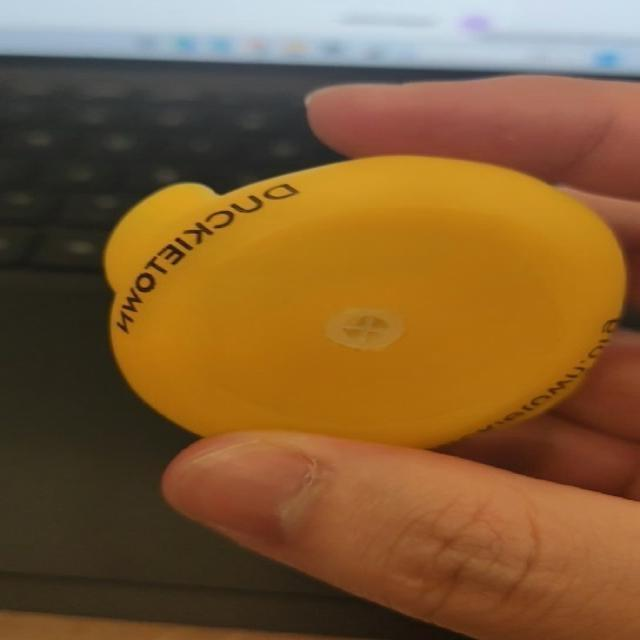rubber-duck: (103, 155, 623, 446)
